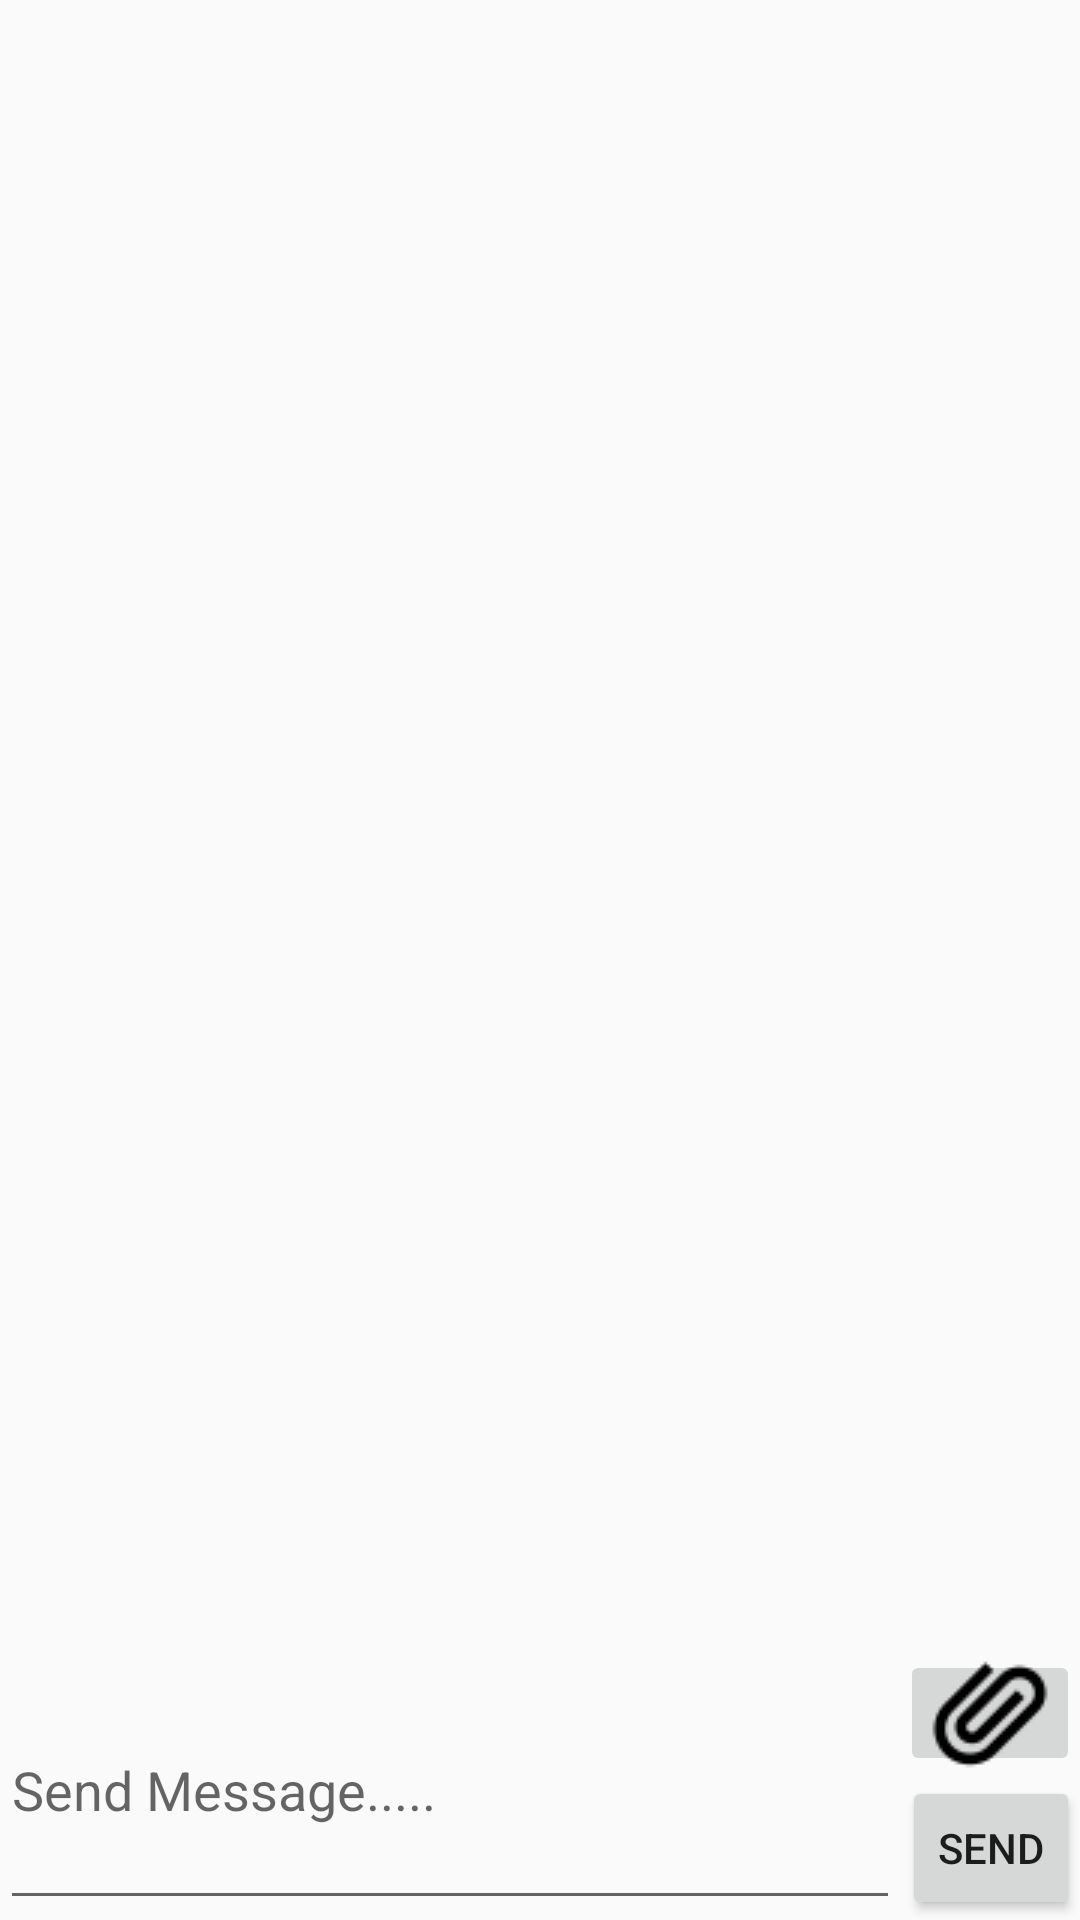

Named icons in this screenshot (1080x1920) and their bounding boxes, (x1, y1, x2, y2):
paperclip: (912, 1661, 1068, 1767)
